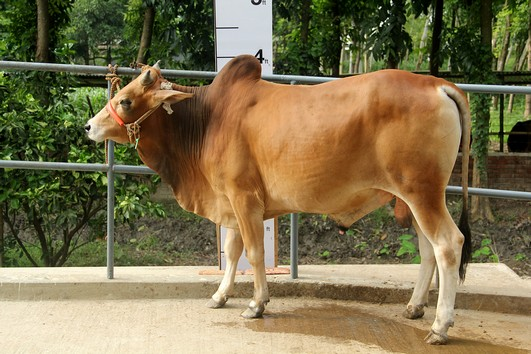cow: (80, 52, 476, 345)
